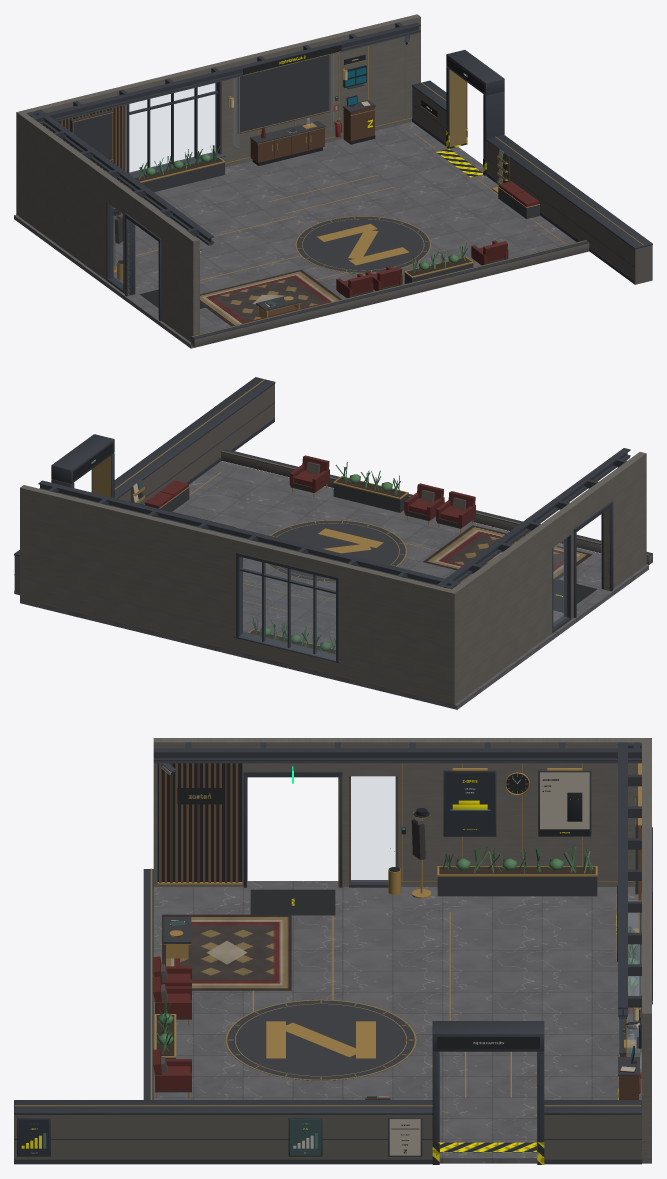
Rendered from room_hol.glb.
3 views of the same model, one above another, from view 1: azimuth 30°, elevation 25°; view 2: azimuth 150°, elevation 25°; view 3: azimuth 270°, elevation 25° (orthographic). The views are drawn at different scales.
Visible parts, largest first — view 1: Body; view 2: Body; view 3: Body.
Part boxes in pixels (x1,y1,x2,y2): Body: (14, 14, 652, 348); Body: (14, 377, 652, 709); Body: (14, 738, 652, 1164).
Size of the model in its own units: 13.49 by 3.32 by 12.82.
Materials: 39 (4 with a texture image).
